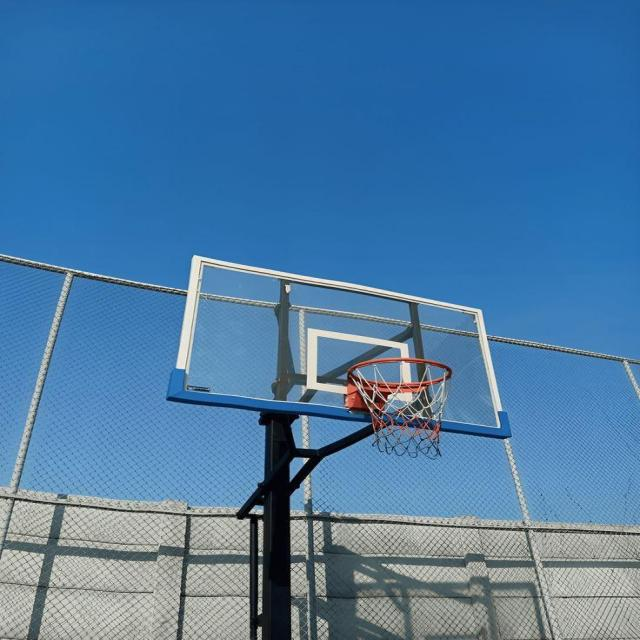hoop: (310, 339, 480, 466)
